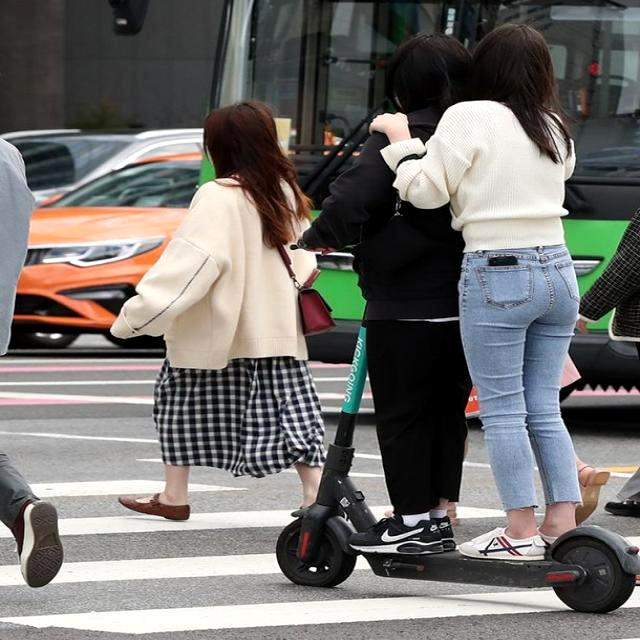bare_head: (471, 15, 565, 113), (379, 26, 474, 119), (204, 102, 293, 177)
human: (121, 107, 366, 531), (441, 33, 599, 561), (350, 36, 487, 558)
kickboard: (257, 483, 640, 626)
